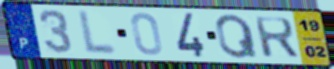0: (129, 11, 164, 57)
3: (38, 8, 75, 56)
4: (174, 11, 206, 59)
L: (78, 9, 119, 57)
Q: (214, 13, 261, 60)
R: (252, 16, 302, 61)
